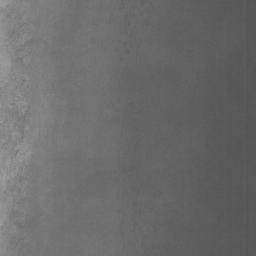Silk spot: (9, 103, 30, 146), (9, 208, 34, 229), (3, 174, 24, 194), (12, 48, 30, 69), (7, 237, 24, 251), (5, 29, 20, 44)
